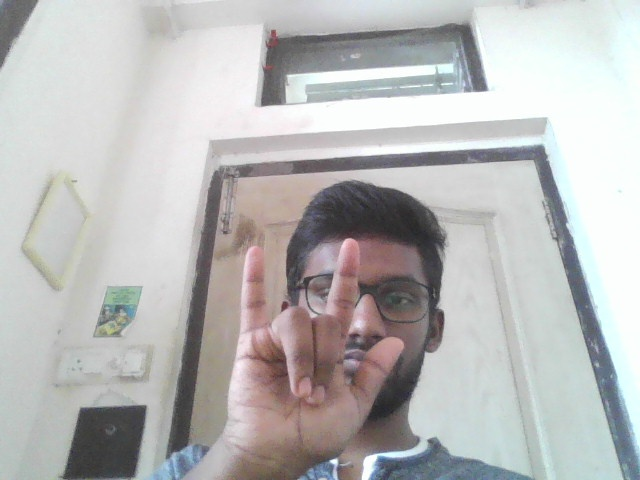I Love You: (225, 235, 406, 464)
